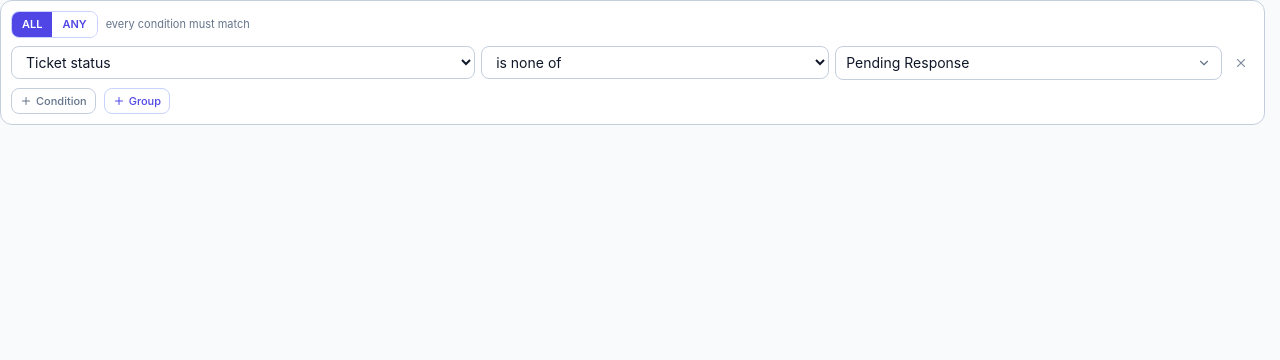
Test: ConditionGroupBuilder › a picked value the workspace no longer offers stays listed and ticked
Click the button with aria-label "Values: Pending Response" at (908, 62), box top-left (835, 46), bottom-right (1222, 80)
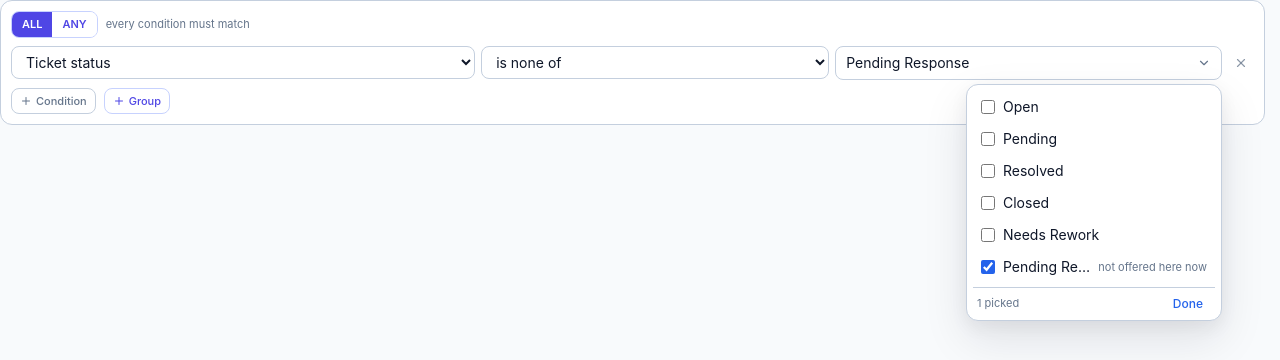
Now the checkbox labelled "Pending Response not offered here now" is checked, box top-left (981, 260), bottom-right (995, 274)
Now the text "not offered here now" is shown, box top-left (1098, 256), bottom-right (1207, 276)
